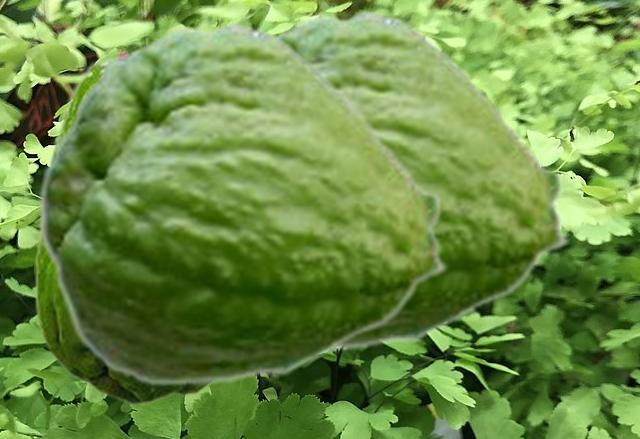sayote: (38, 21, 450, 387), (270, 9, 571, 353), (34, 52, 212, 405)
